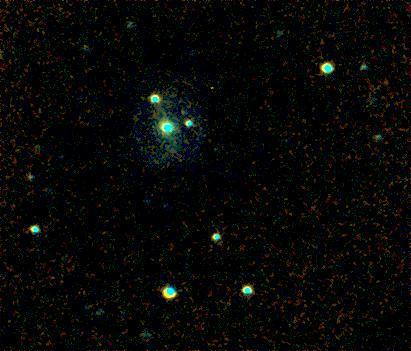star: (165, 96, 195, 126)
